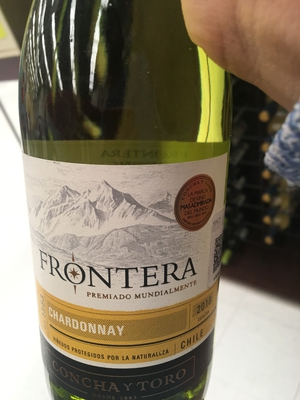frontera chardonnay: (19, 14, 231, 400)
